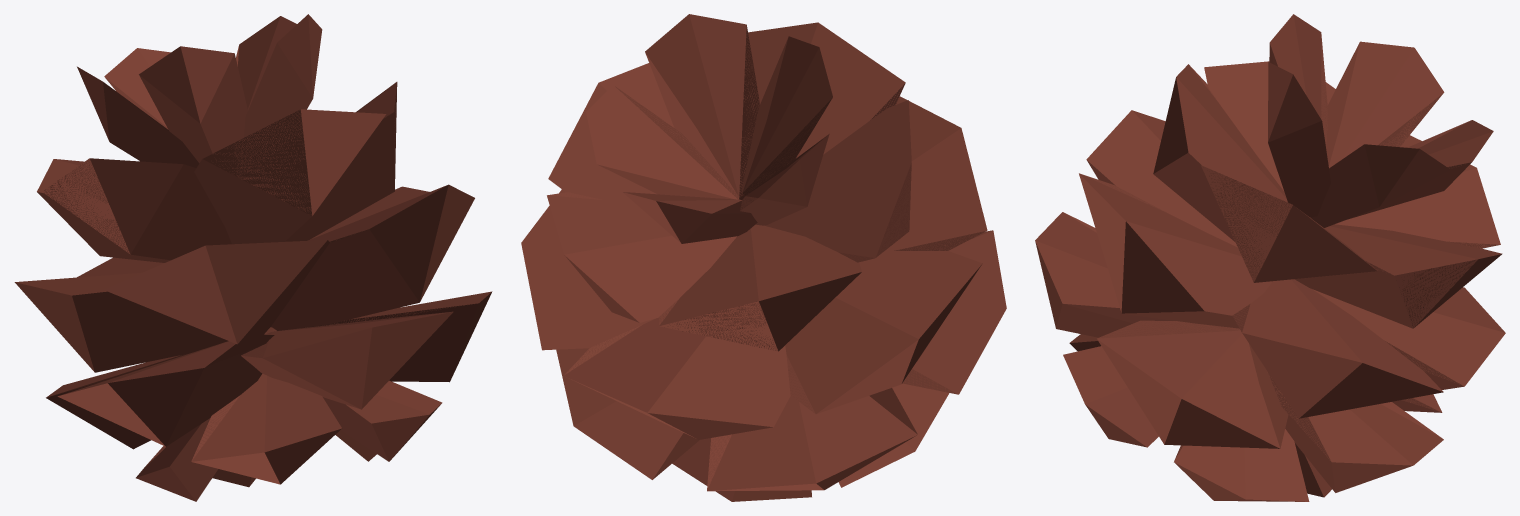
File: pineCone.glb
3 renders of one model, left to right at view 1: azimuth 30°, elevation 25°; view 2: azimuth 150°, elevation 25°; view 3: azimuth 270°, elevation 25°, orthographic. The views are drawn at different scales.
Parts seen in each view (by area): view 1: Cube.003, Cube.002, pineCone, Cube.005, Cube.001; view 2: Cube.002, Cube.003, Cube.005, pineCone, Cube.001; view 3: Cube.003, Cube.002, pineCone, Cube.005, Cube.001.
Part boxes in pixels (x1,y1,x2,y2): Cube.003: [14, 184, 474, 372]; Cube.002: [37, 82, 397, 262]; pineCone: [46, 291, 492, 449]; Cube.005: [77, 14, 322, 167]; Cube.001: [136, 373, 442, 501]; Cube.002: [547, 22, 911, 351]; Cube.003: [521, 96, 987, 439]; Cube.005: [586, 14, 832, 243]; pineCone: [556, 230, 1006, 491]; Cube.001: [672, 383, 949, 501]; Cube.003: [1079, 110, 1505, 418]; Cube.002: [1153, 61, 1502, 328]; pineCone: [1035, 212, 1443, 492]; Cube.005: [1268, 14, 1493, 227]; Cube.001: [1063, 334, 1331, 501].
Bounding box in the file's own units: 2.45 × 2.68 × 2.57.
